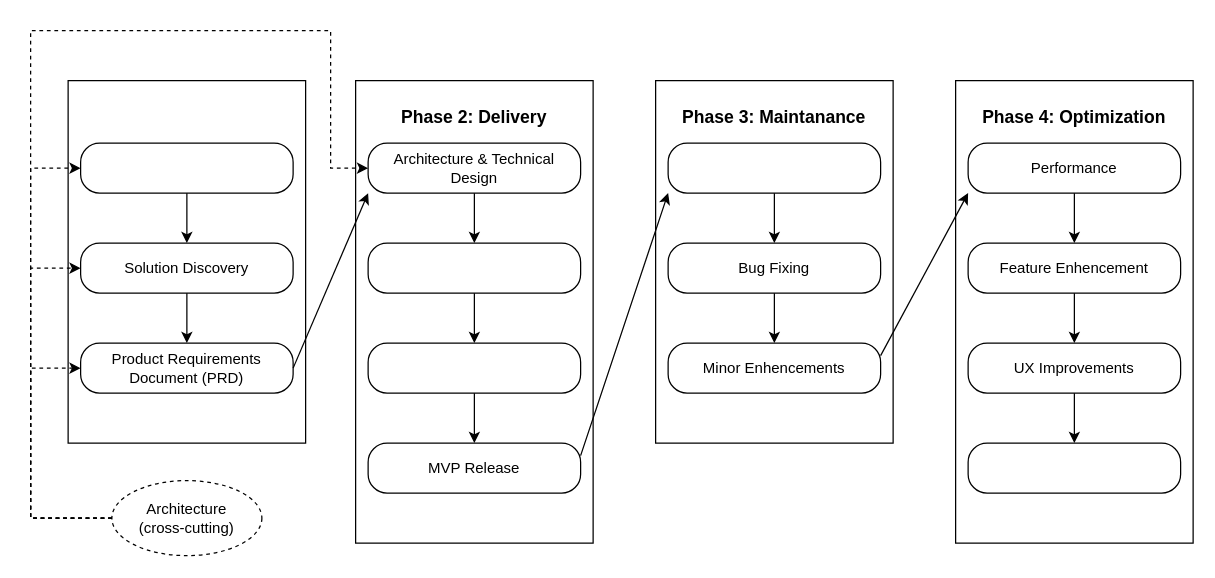
The diagram is 1215 pixels wide and 578 high, and some of its shapes have lost their labels. Here are the shapes that lost their labels. From the top down, the box of each, then its label:
(79, 142, 293, 193): Problem Discovery
(667, 142, 881, 193): Support & Monitoring
(67, 79, 306, 443): Phase 1: Discovery
(367, 242, 581, 293): MVP Build
(367, 342, 581, 393): QA & Validation
(967, 442, 1181, 493): Data Analysis & Insights
